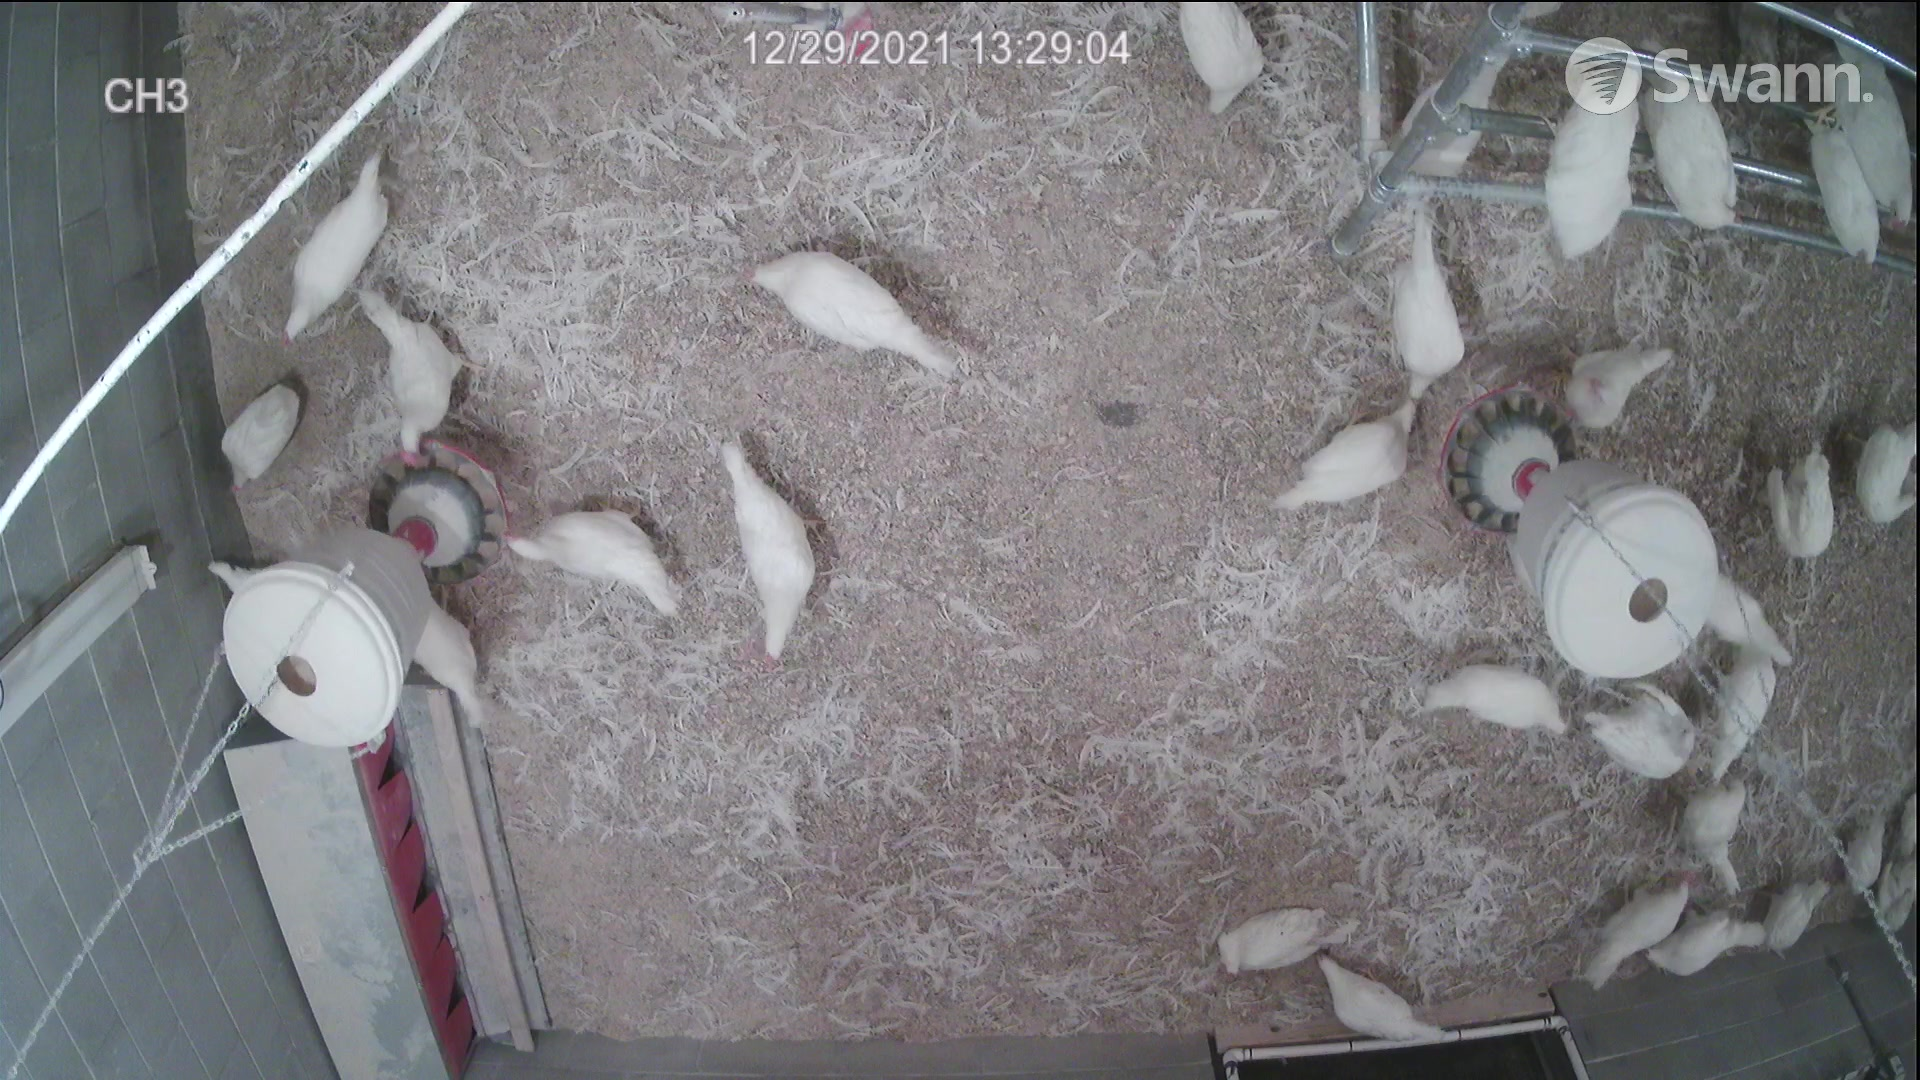Dust Bathing: (1193, 913, 1361, 967)
Feeding: (352, 286, 488, 465)
Foraging: (705, 426, 825, 666), (742, 247, 964, 372), (208, 375, 327, 480)
Perching: (1545, 46, 1635, 257), (1826, 22, 1905, 225), (1644, 54, 1738, 219), (1808, 117, 1876, 281)
Preening: (1774, 443, 1840, 563)
